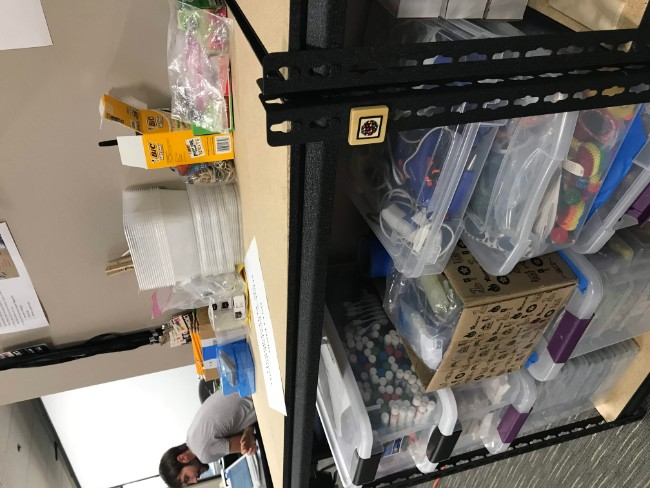cookie: (347, 105, 389, 147)
